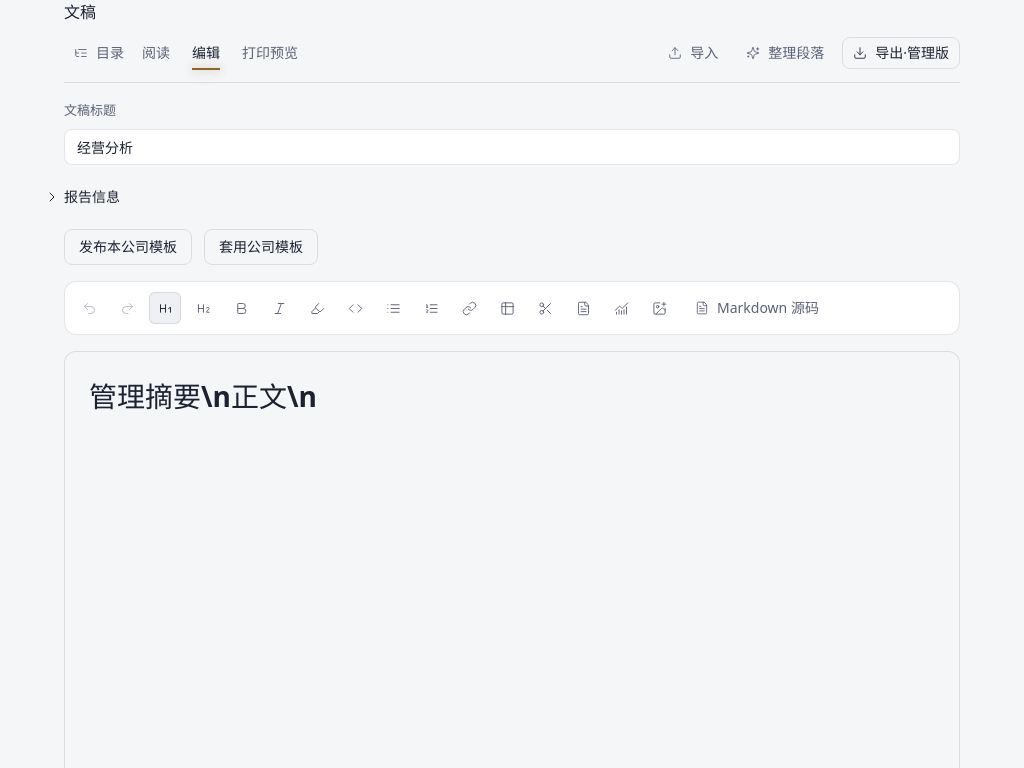
report editor workspace › loads PDF comparison from decoded data and does not leak data URLs in errors
Step 1. Click the button "导入" → [693, 53], box [658,37,728,69]
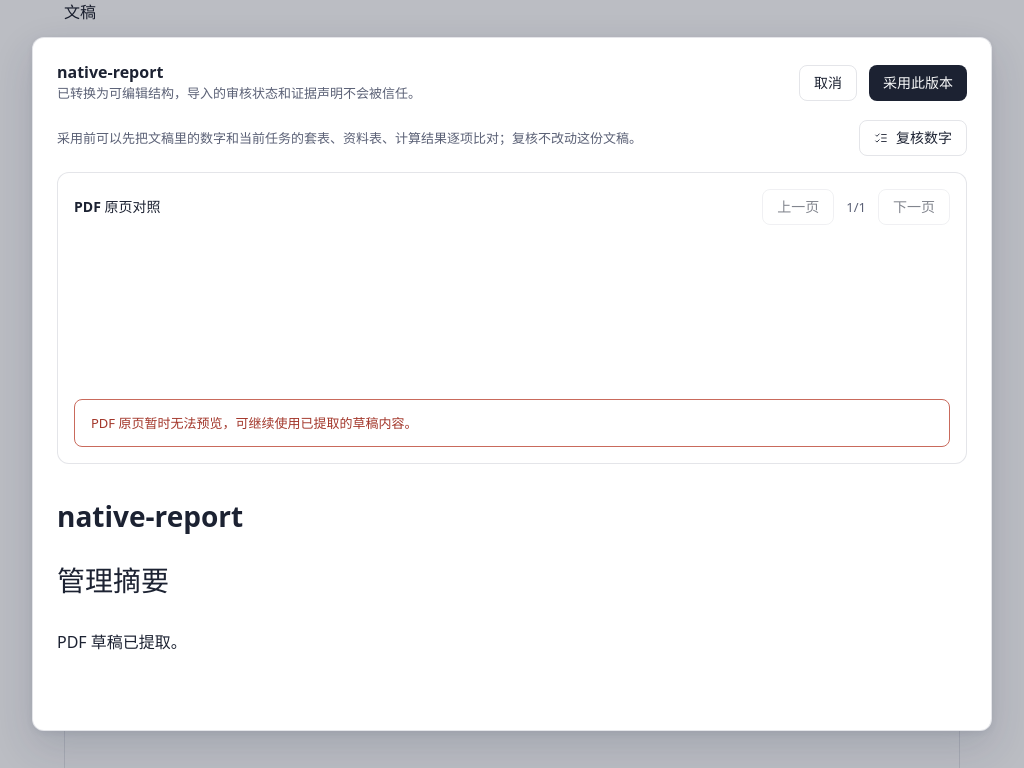
Expected: the message reads "PDF 原页暂时无法预览，可继续使用已提取的草稿内容。", [91,414,418,432]
